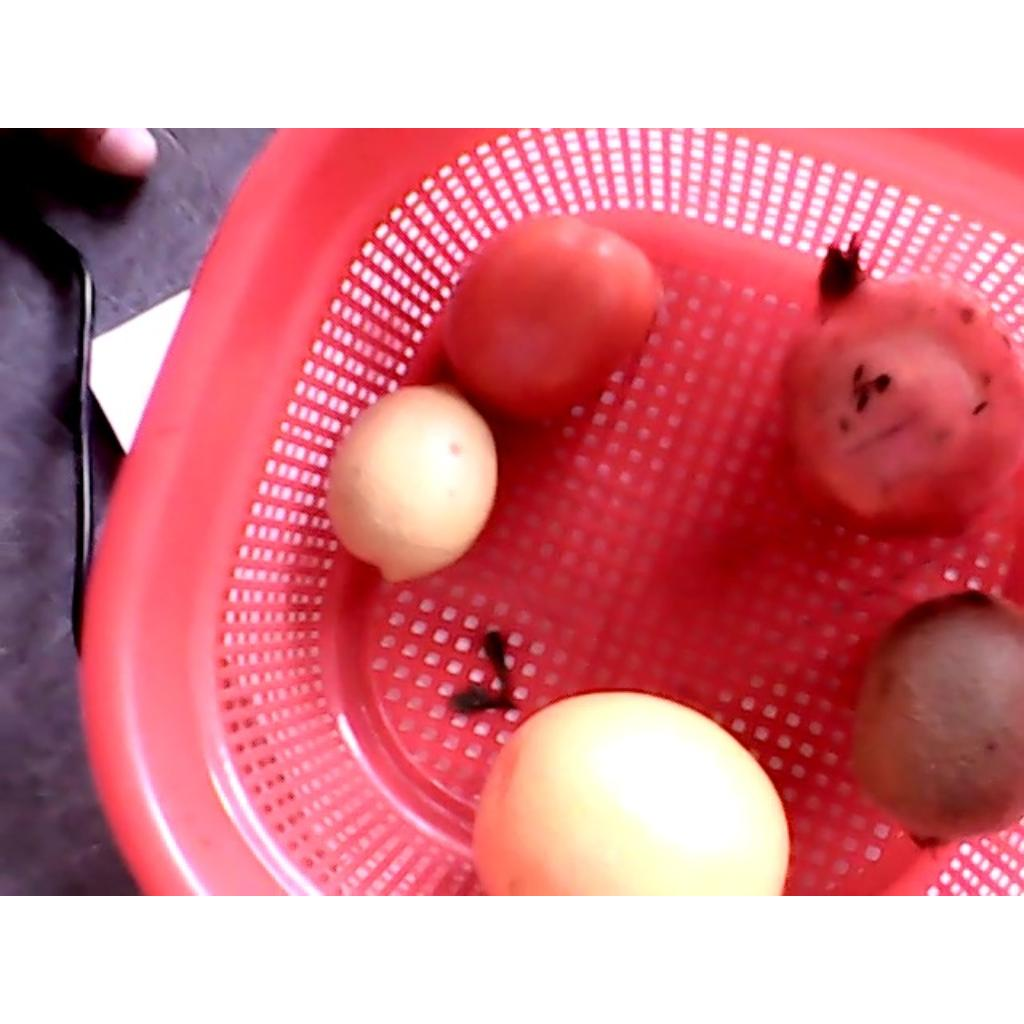kiwi: (849, 588, 1022, 846)
lemon: (324, 384, 498, 585)
orange: (471, 688, 790, 894)
pomegranate: (779, 235, 1022, 539)
tomato: (441, 209, 659, 426)
